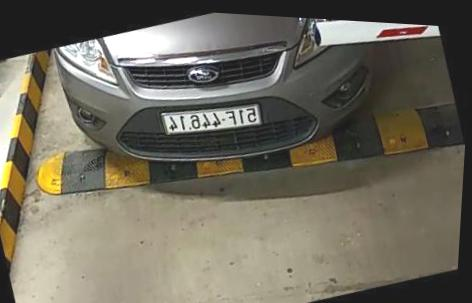License_Plate: (158, 94, 266, 145)
